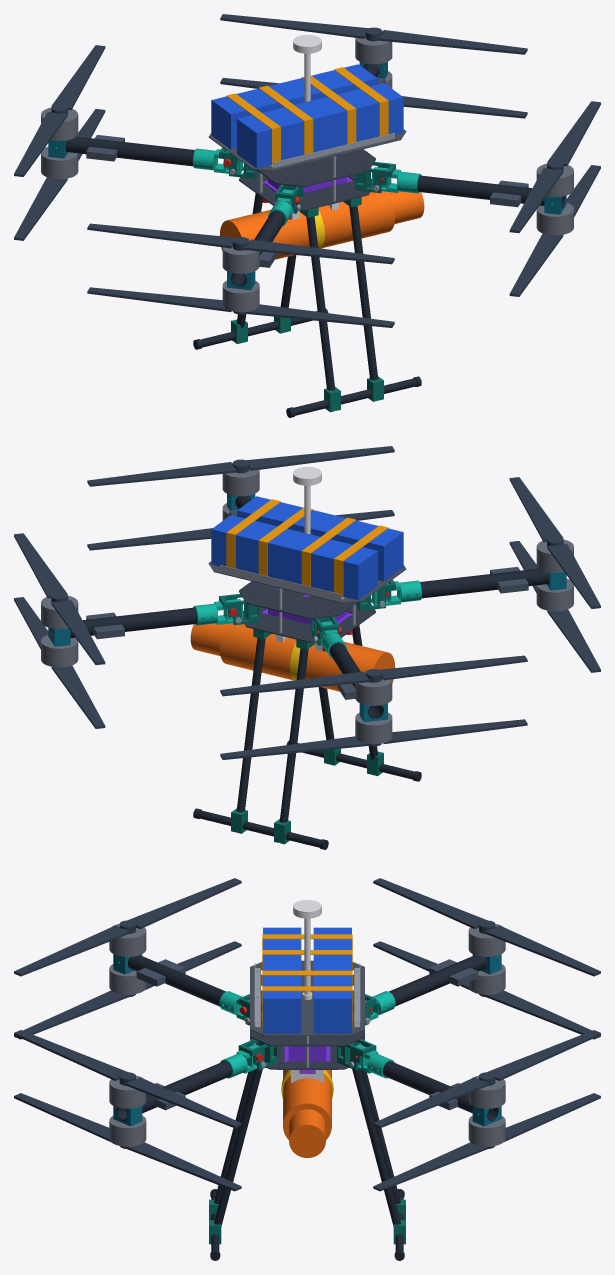
The picture shows the model from 3 angles, top to bottom: view 1: azimuth 30°, elevation 25°; view 2: azimuth 150°, elevation 25°; view 3: azimuth 270°, elevation 25°; orthographic projection.
Visible parts, largest first — view 1: Folding propellers (8), ColdCell packs (2), Motors (8), Rescue float and line bag, Arm tubes (4), Gear struts (4), Pack straps (4), Top hub plate, Arm root fittings (4), Skids (2) with end caps, Arm hinge blocks (4), Bottom hub plate (+6 smaller); view 2: Folding propellers (8), ColdCell packs (2), Motors (8), Rescue float and line bag, Arm tubes (4), Gear struts (4), Pack straps (4), Top hub plate, Arm root fittings (4), Skids (2) with end caps, Arm hinge blocks (4), Bottom hub plate (+6 smaller); view 3: Folding propellers (8), ColdCell packs (2), Motors (8), Arm tubes (4), Gear struts (4), Rescue float and line bag, Pack straps (4), Arm root fittings (4), Battery deck, Arm hinge blocks (4), Motor controllers (8), Motor mounts (4) (+7 smaller).
Part boxes in pixels (x1,y1,x2,y2): Folding propellers (8): (14, 14, 600, 327); ColdCell packs (2): (211, 64, 403, 168); Motors (8): (41, 31, 573, 312); Rescue float and line bag: (219, 191, 424, 259); Arm tubes (4): (65, 63, 565, 286); Gear struts (4): (236, 193, 378, 390); Pack straps (4): (226, 67, 388, 164); Top hub plate: (257, 149, 375, 187); Arm root fittings (4): (193, 148, 421, 226); Skids (2) with end caps: (193, 308, 421, 417); Arm hinge blocks (4): (219, 147, 395, 213); Bottom hub plate: (239, 172, 371, 210); Folding propellers (8): (14, 446, 600, 759); ColdCell packs (2): (211, 496, 403, 600); Motors (8): (41, 463, 573, 744); Rescue float and line bag: (190, 623, 395, 691); Arm tubes (4): (49, 495, 549, 718); Gear struts (4): (236, 625, 378, 822); Pack straps (4): (226, 499, 388, 596); Top hub plate: (239, 581, 357, 619); Arm root fittings (4): (193, 580, 421, 658); Skids (2) with end caps: (193, 740, 421, 849); Arm hinge blocks (4): (219, 579, 395, 645); Bottom hub plate: (243, 604, 375, 642); Folding propellers (8): (14, 878, 600, 1191); ColdCell packs (2): (263, 927, 351, 1033); Motors (8): (109, 923, 505, 1146); Arm tubes (4): (116, 955, 498, 1120); Gear struts (4): (214, 1069, 400, 1226); Rescue float and line bag: (283, 1070, 331, 1157); Pack straps (4): (262, 934, 352, 1026); Arm root fittings (4): (219, 991, 395, 1078); Battery deck: (250, 960, 364, 1035); Arm hinge blocks (4): (238, 994, 376, 1070); Motor controllers (8): (136, 959, 478, 1110); Motor mounts (4): (113, 954, 501, 1126).
Size of the model in its own units: 1.43 by 0.876 by 1.43.
